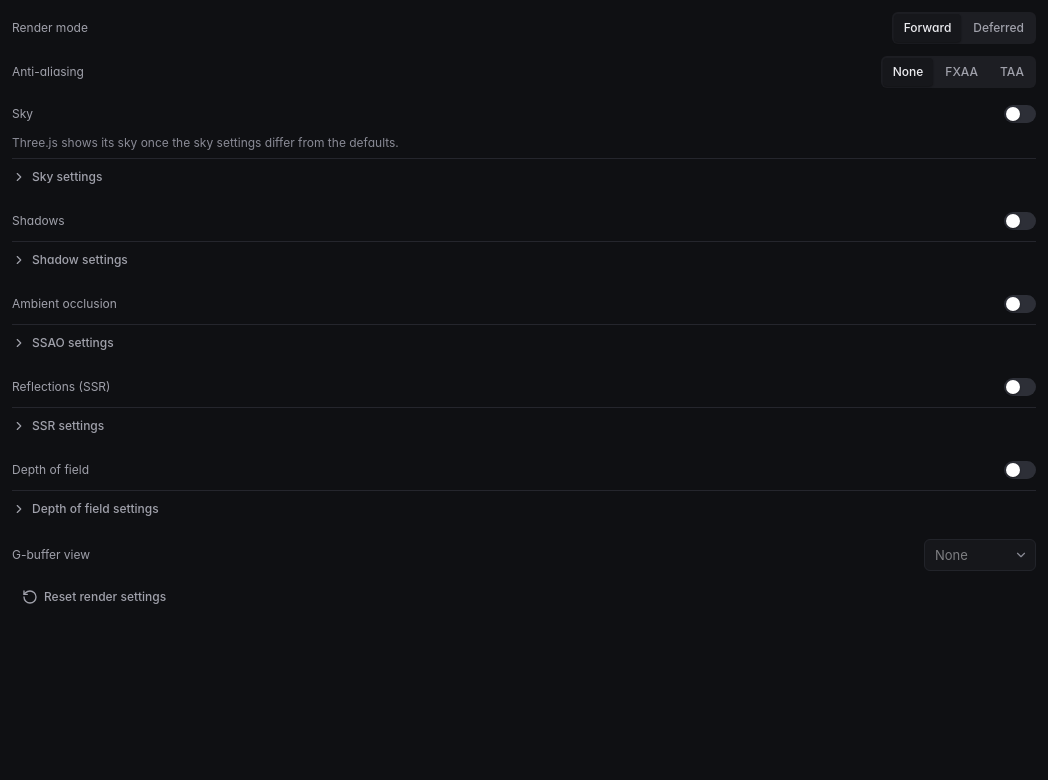
capability-disabled controls › Three.js disables SSAO intensity, bokeh shape and SSR IBL blend with a reason, and shows the shadow limitation
Click the switch named "Shadows".
click(1020, 221)  # box [1004,212,1036,230]
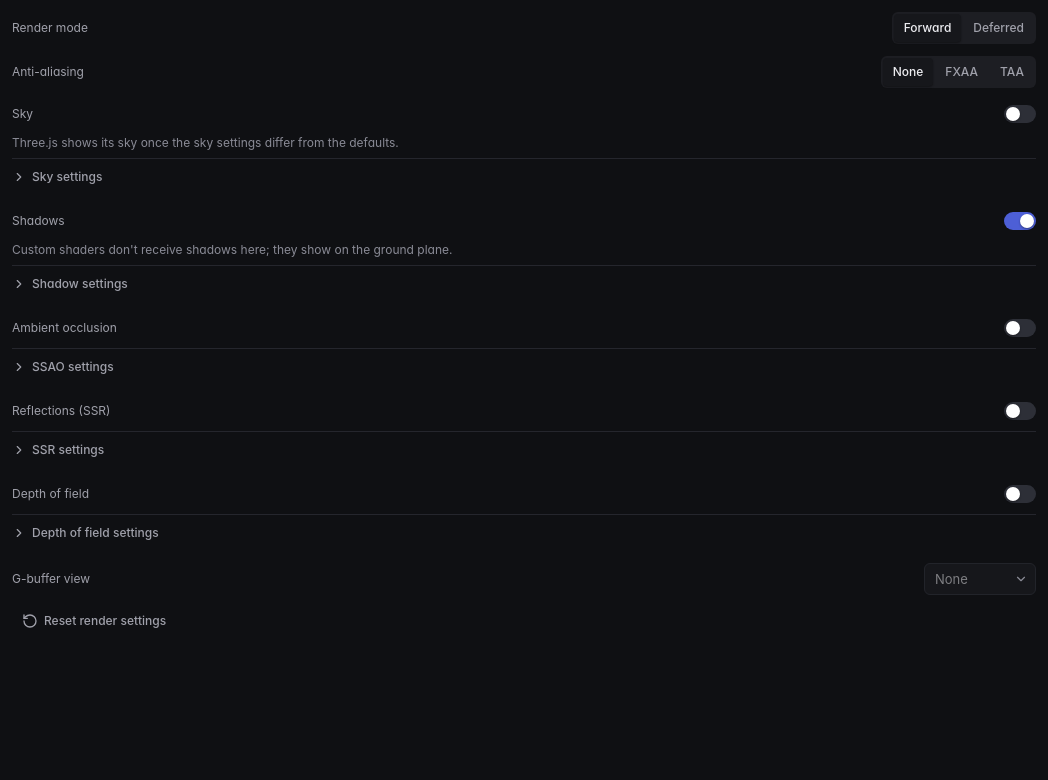
Now the text "Custom shaders don.t receive shadows" is shown, box [12,242,452,257]
